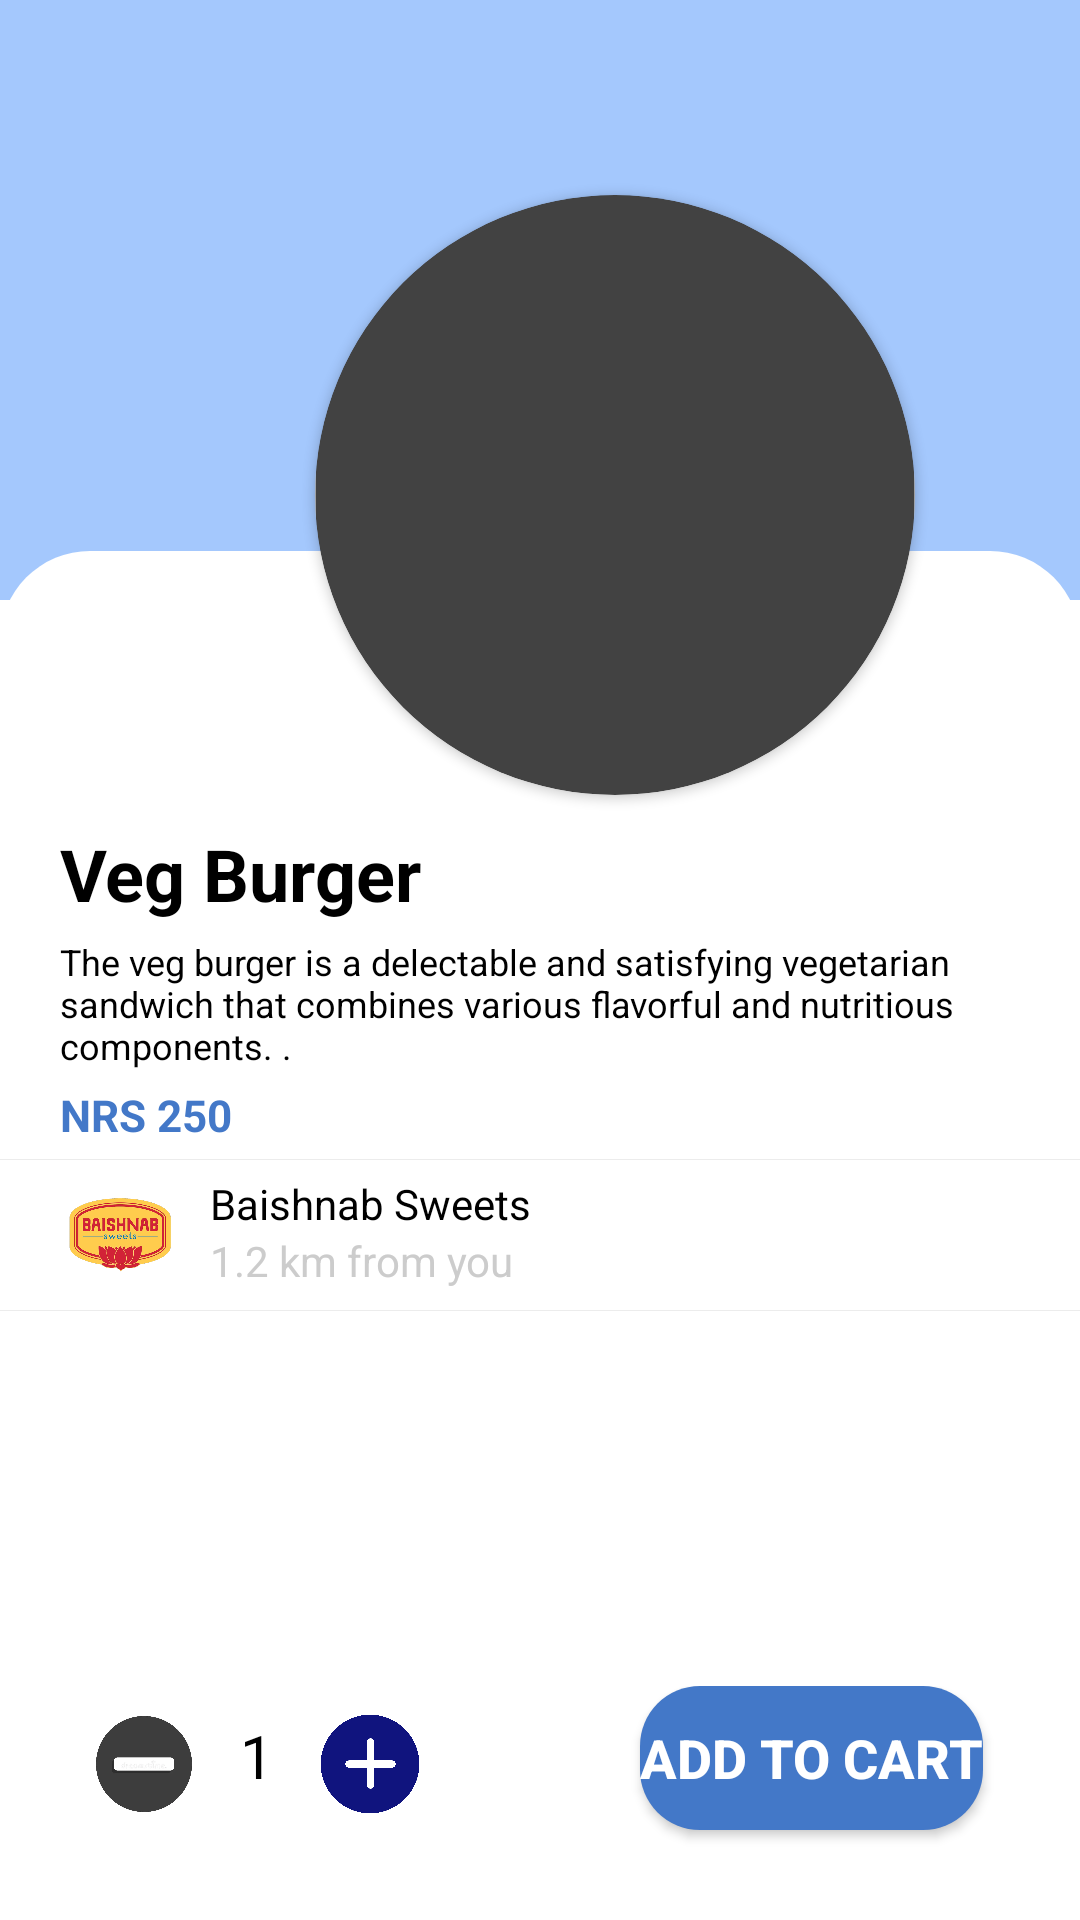

Named icons in this screenshot (1080w x 1920h) and their bounding boxes, bbox=(x1, y1, x2, y2):
minus: bbox=(96, 1716, 192, 1812)
plus: bbox=(321, 1715, 419, 1813)
